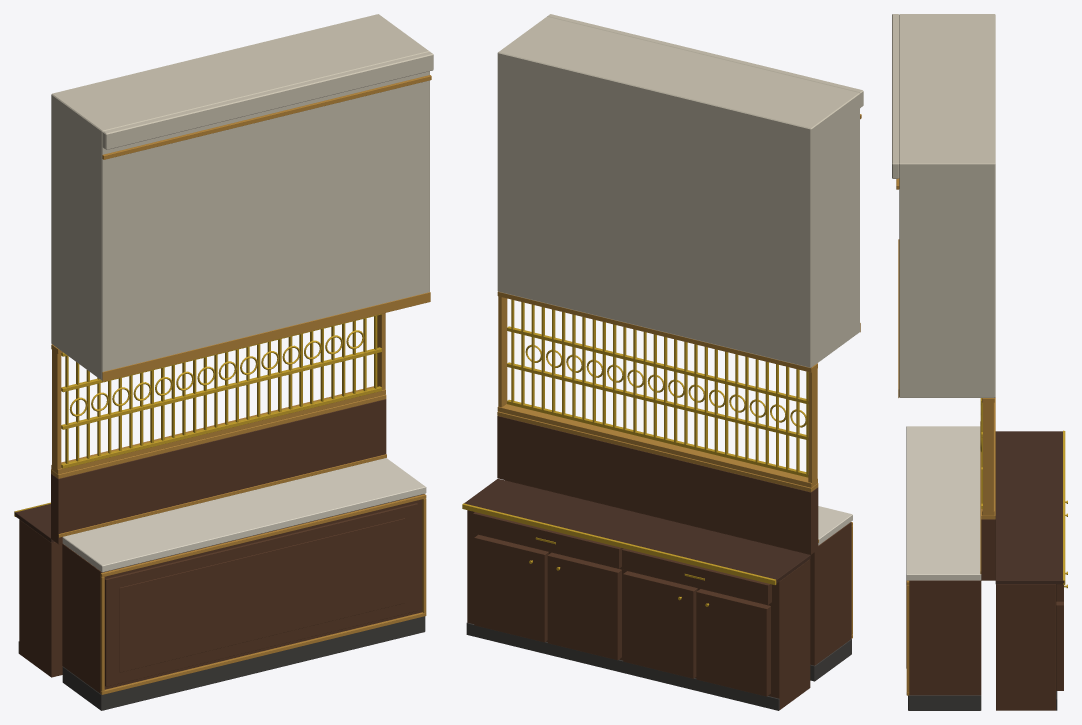
Rendered from prop_of_teller_bay_closed_endw.glb.
3 views of the same model, side by side, from view 1: azimuth 30°, elevation 25°; view 2: azimuth 150°, elevation 25°; view 3: azimuth 270°, elevation 25° (orthographic). The views are drawn at different scales.
Visible parts, largest first — view 1: Counter; view 2: Counter; view 3: Counter.
Boxes of the visible parts, x1=… form: Counter: x1=14, y1=14, x2=433, y2=710; Counter: x1=462, y1=14, x2=863, y2=710; Counter: x1=892, y1=14, x2=1067, y2=710.
Bounding box in the file's own units: 2.47 × 4.2 × 1.22.
